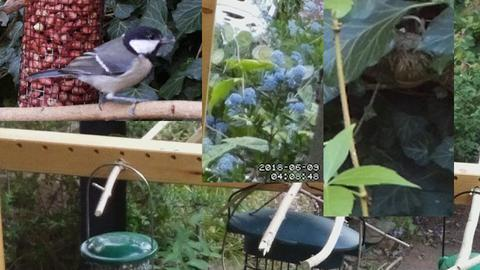great tit: (25, 25, 177, 117)
